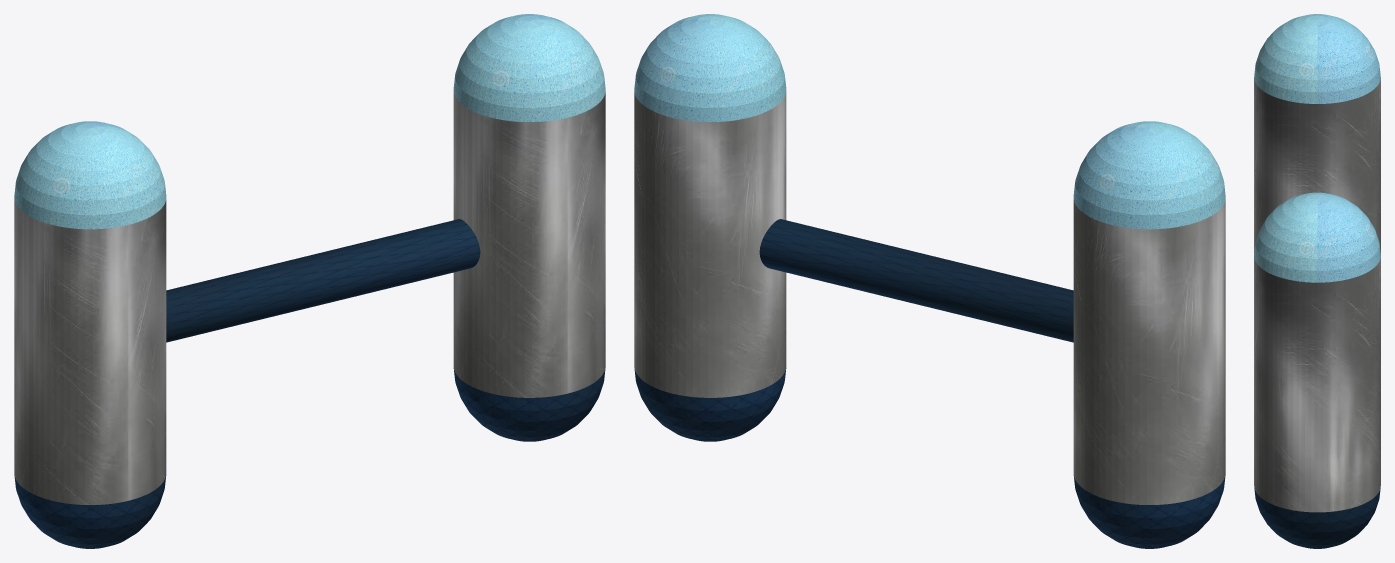
The model's file is EstacionCapsulasDer.obj.
3 renders of one model, left to right at view 1: azimuth 30°, elevation 25°; view 2: azimuth 150°, elevation 25°; view 3: azimuth 270°, elevation 25°, orthographic. The views are drawn at different scales.
Parts seen in each view (by area): view 1: Cylinder.006_Material, Cylinder.006_Material.002, Cylinder.006_Material.004; view 2: Cylinder.006_Material, Cylinder.006_Material.002, Cylinder.006_Material.004; view 3: Cylinder.006_Material, Cylinder.006_Material.004, Cylinder.006_Material.002.
Boxes of the visible parts, box(x1,y1,x2,y2) form: Cylinder.006_Material: box(14, 92, 605, 504); Cylinder.006_Material.002: box(14, 219, 605, 548); Cylinder.006_Material.004: box(14, 14, 605, 229); Cylinder.006_Material: box(634, 92, 1225, 504); Cylinder.006_Material.002: box(634, 219, 1225, 548); Cylinder.006_Material.004: box(634, 14, 1225, 229); Cylinder.006_Material: box(1254, 78, 1380, 512); Cylinder.006_Material.004: box(1254, 14, 1380, 282); Cylinder.006_Material.002: box(1254, 489, 1380, 548).
Size of the model in its own units: 6.5 by 4.5 by 1.5.
